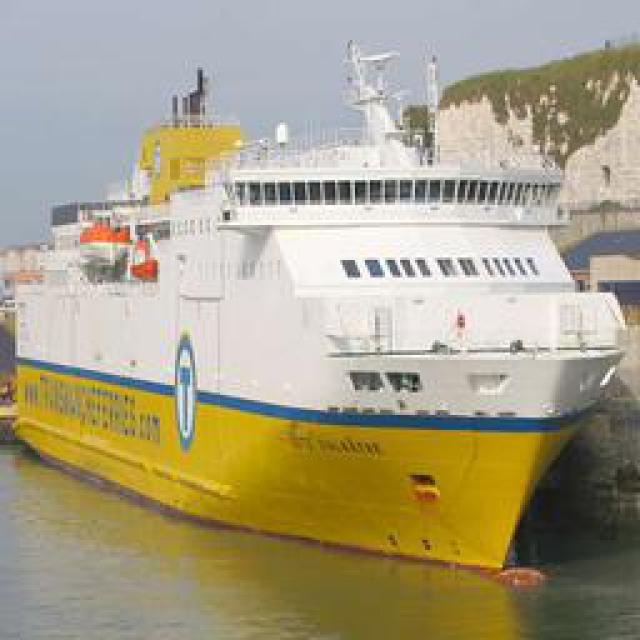Ship: (26, 50, 621, 583)
